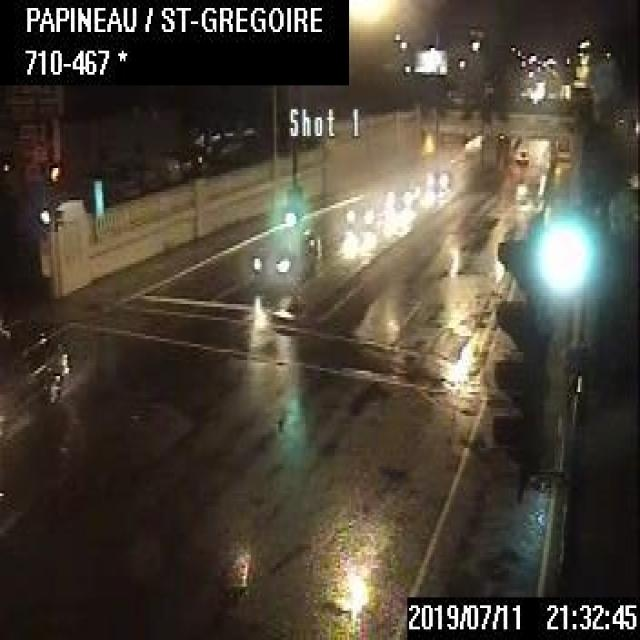vehicle: (0, 314, 67, 442), (247, 221, 321, 280), (342, 190, 385, 230), (382, 179, 418, 212), (421, 164, 452, 192), (514, 146, 528, 163)
